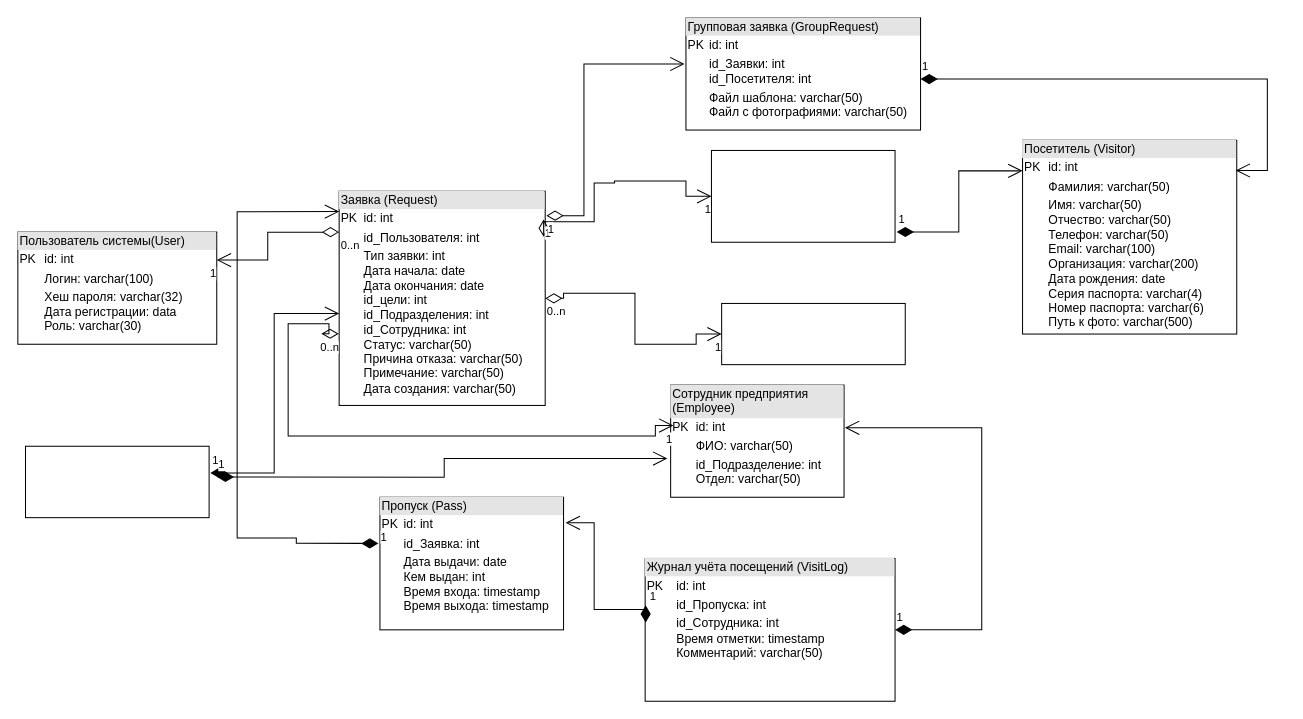
Image size: 1303x719. Some labels were removed from this diagram. Each missing label, with the centre of its shape:
"Личная заявка (IndividualRequest) PK id: int id_Заявки: int id_Посетителя: int" belongs at (x=802, y=195).
"Подразделение (Department) PK id: int Название: varchar(50)" belongs at (x=116, y=481).
"Цель посещения (VisitPurpose) PK id: int Название: varchar(50)" belongs at (x=813, y=333).
